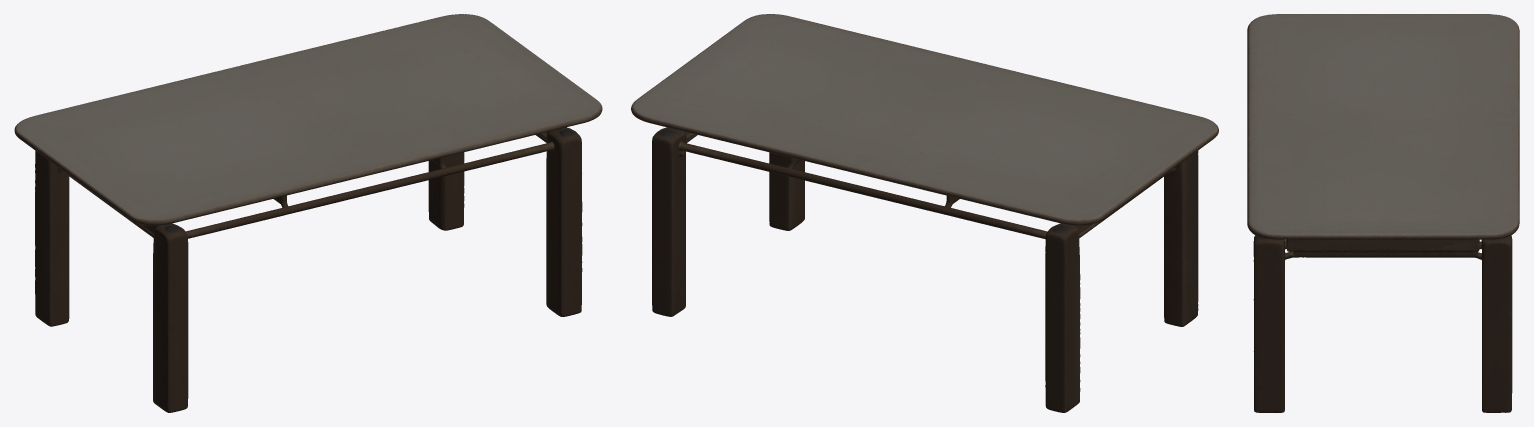
Rendered from 04_Contemporary Rectangular Desk.glb.
The picture shows the model from 3 angles, left to right: view 1: azimuth 30°, elevation 25°; view 2: azimuth 150°, elevation 25°; view 3: azimuth 270°, elevation 25°; orthographic projection. The views are drawn at different scales.
Parts seen in each view (by area): view 1: world; view 2: world; view 3: world.
Boxes of the visible parts, box(x1,y1,x2,y2) form: world: box(14, 14, 602, 412); world: box(631, 14, 1218, 412); world: box(1247, 14, 1519, 412).
Bounding box in the file's own units: 1 × 0.4083 × 0.5211.
Materials: 1 (1 with a texture image).
